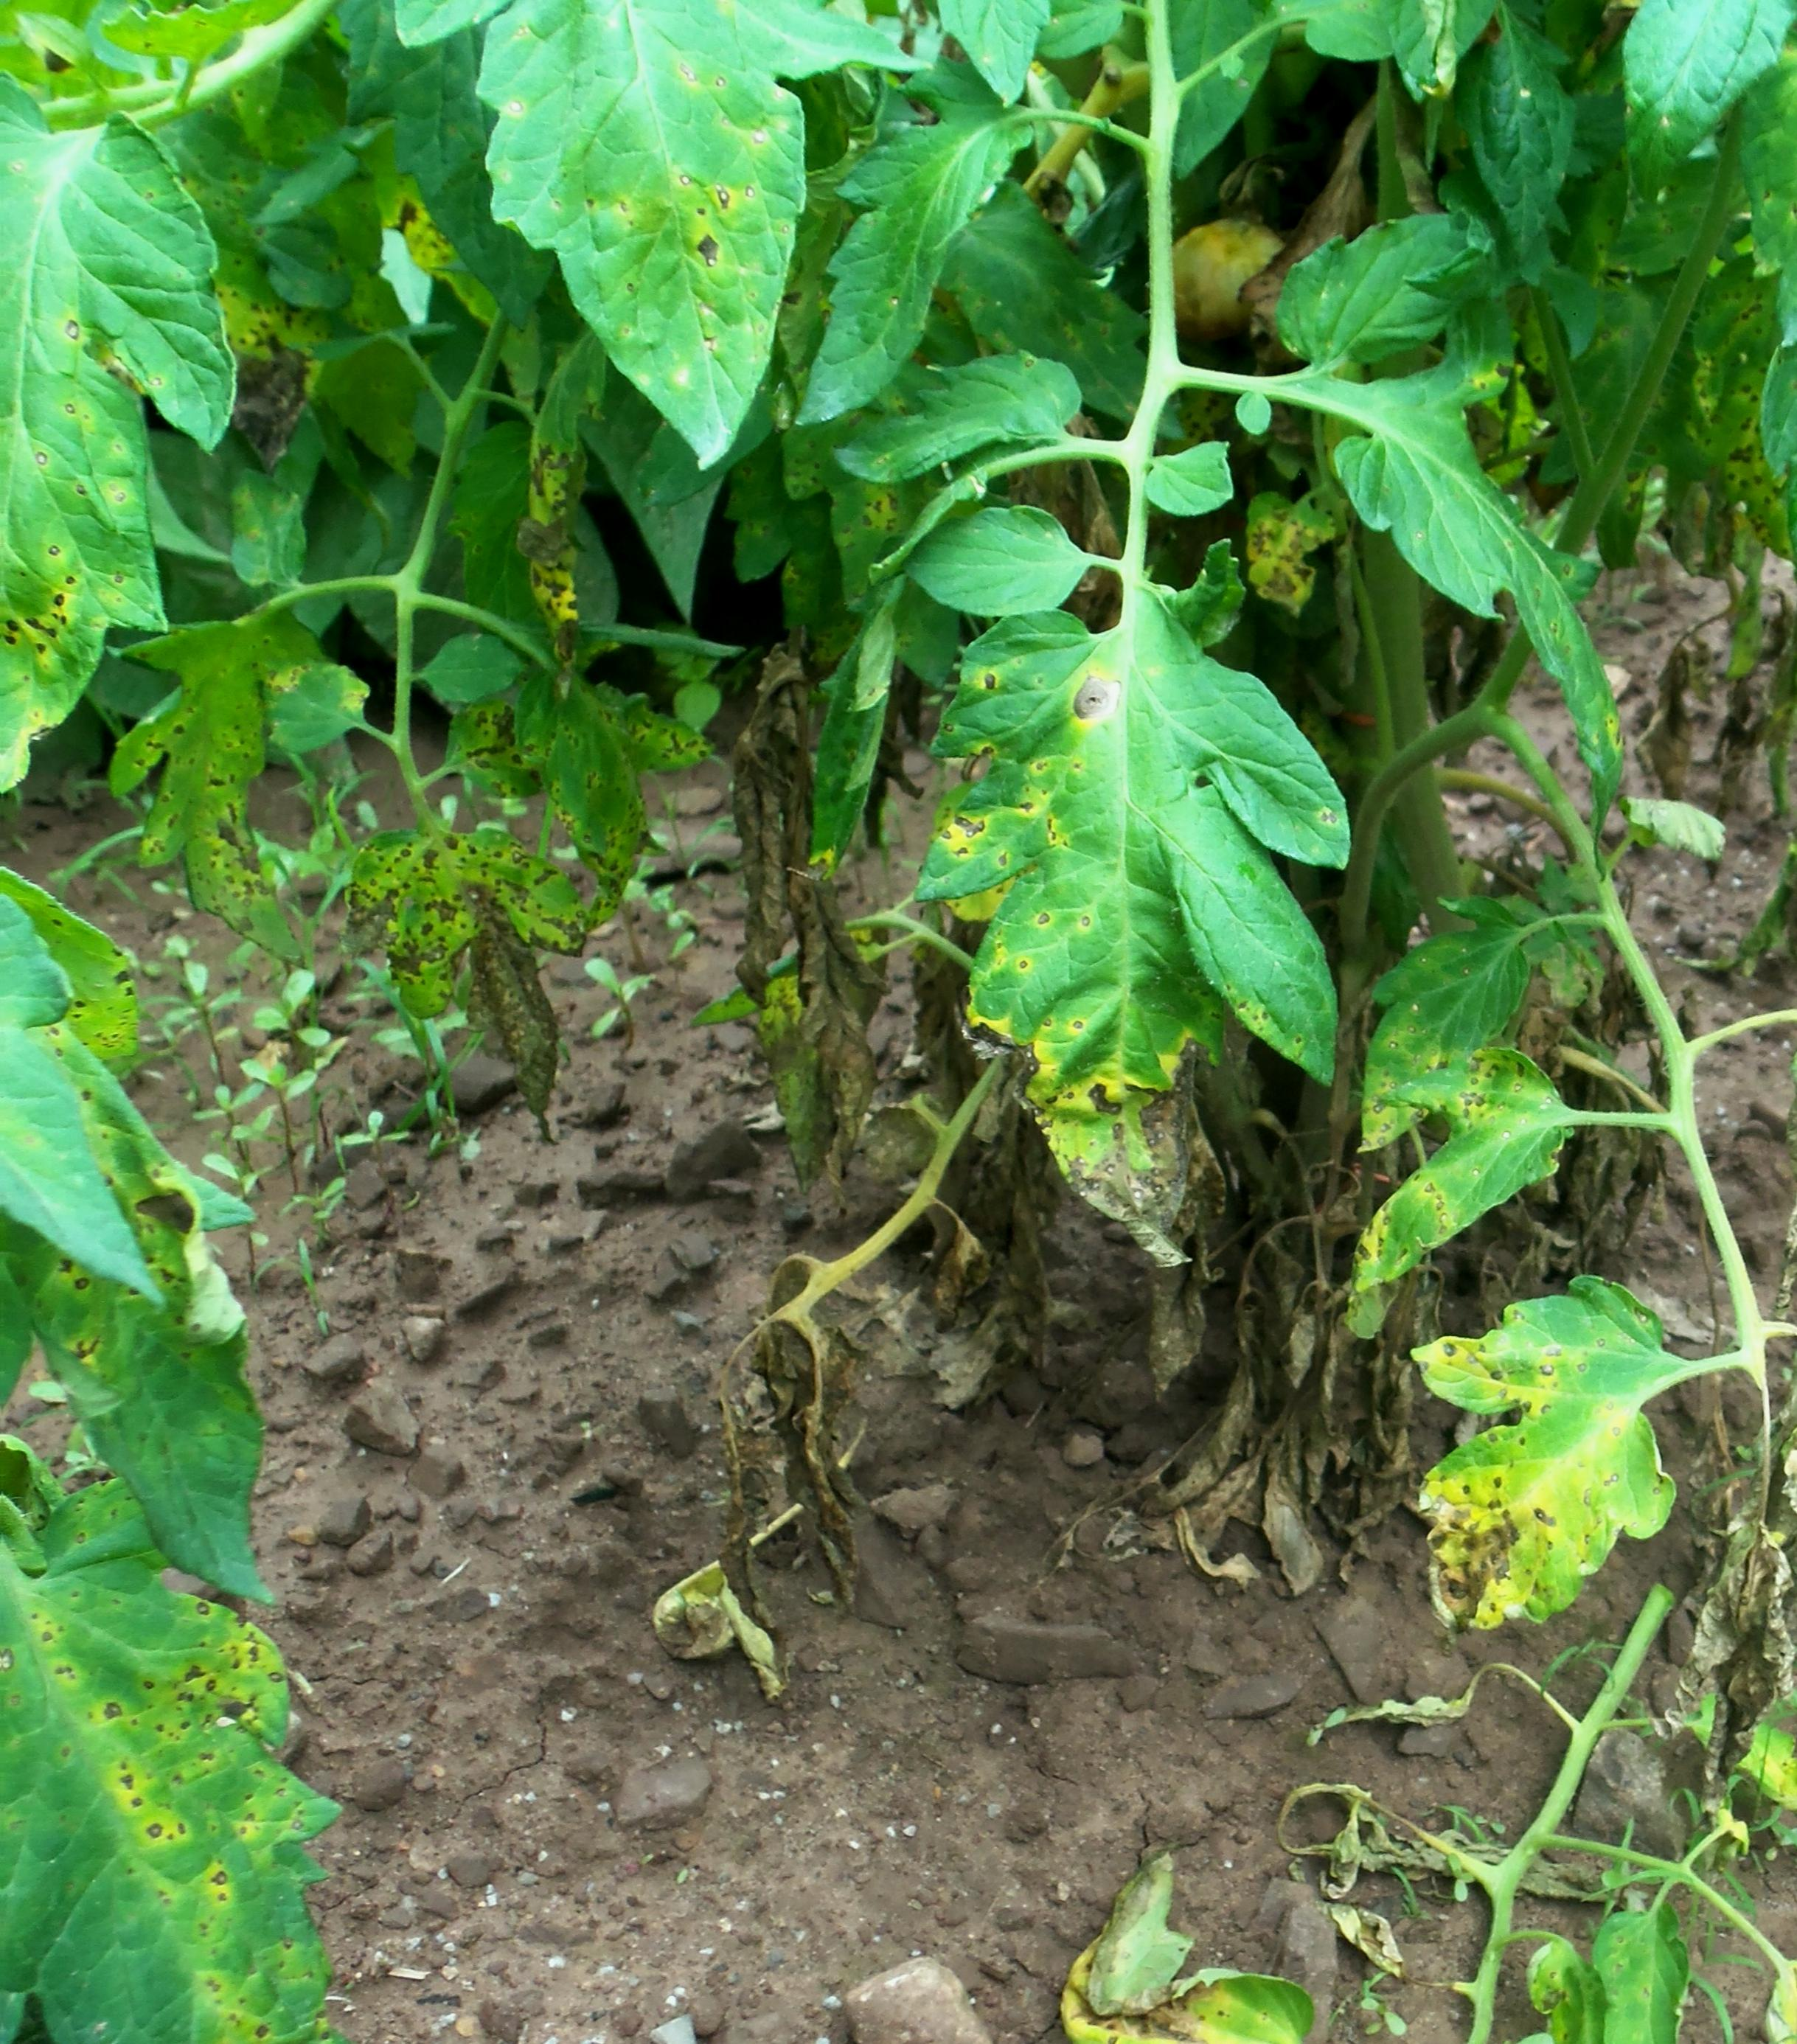Tomato Septoria leaf spot: (907, 565, 1341, 1242), (0, 1450, 399, 2044), (398, 0, 862, 509), (0, 110, 263, 819), (1394, 1263, 1710, 1645), (1347, 1076, 1568, 1288)
